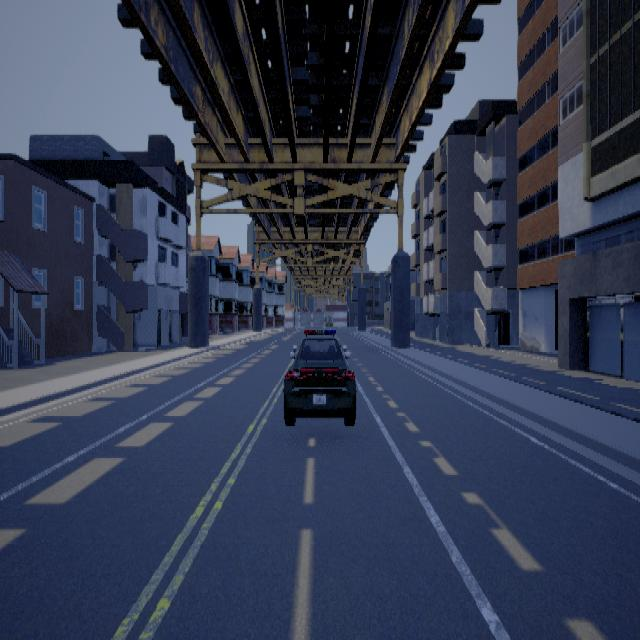vehicle: (282, 328, 356, 424)
